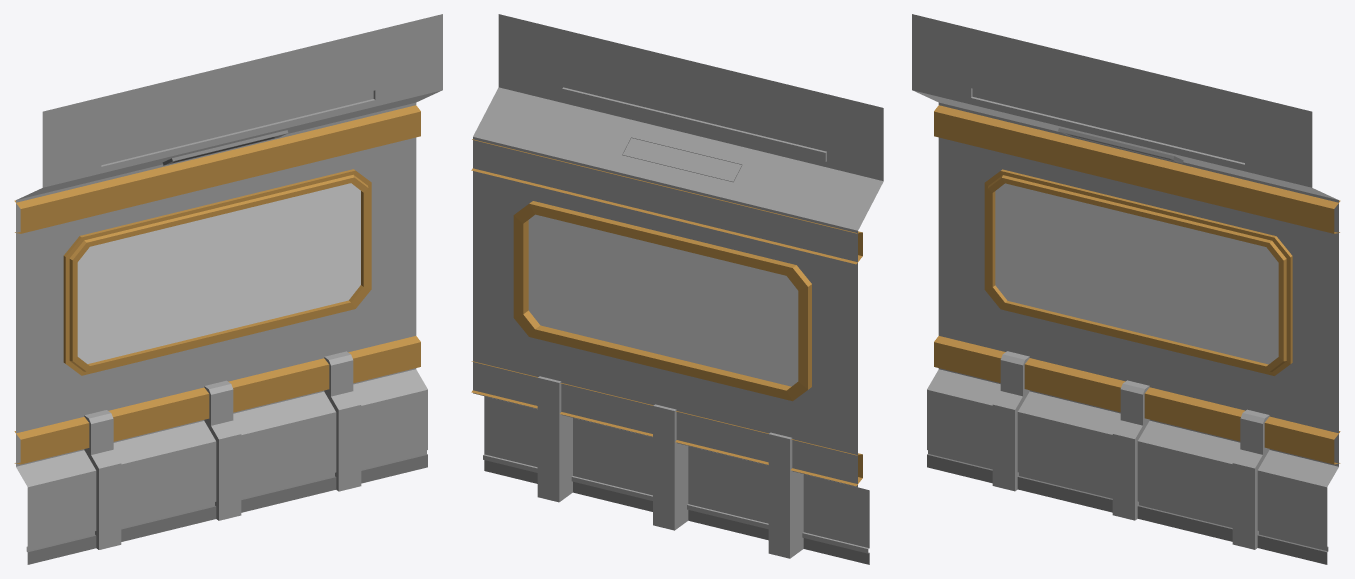
Rendered from Window_Wall_SideB.glb.
3 views of the same model, side by side, from view 1: azimuth 30°, elevation 25°; view 2: azimuth 150°, elevation 25°; view 3: azimuth 330°, elevation 25° (orthographic). The views are drawn at different scales.
Parts seen in each view (by area): view 1: Window_Wall_SideB; view 2: Window_Wall_SideB; view 3: Window_Wall_SideB.
Boxes of the visible parts, x1=… form: Window_Wall_SideB: x1=14, y1=14, x2=442, y2=564; Window_Wall_SideB: x1=471, y1=14, x2=883, y2=564; Window_Wall_SideB: x1=912, y1=14, x2=1340, y2=564.
Size of the model in its own units: 4 by 4.43 by 0.5355.
